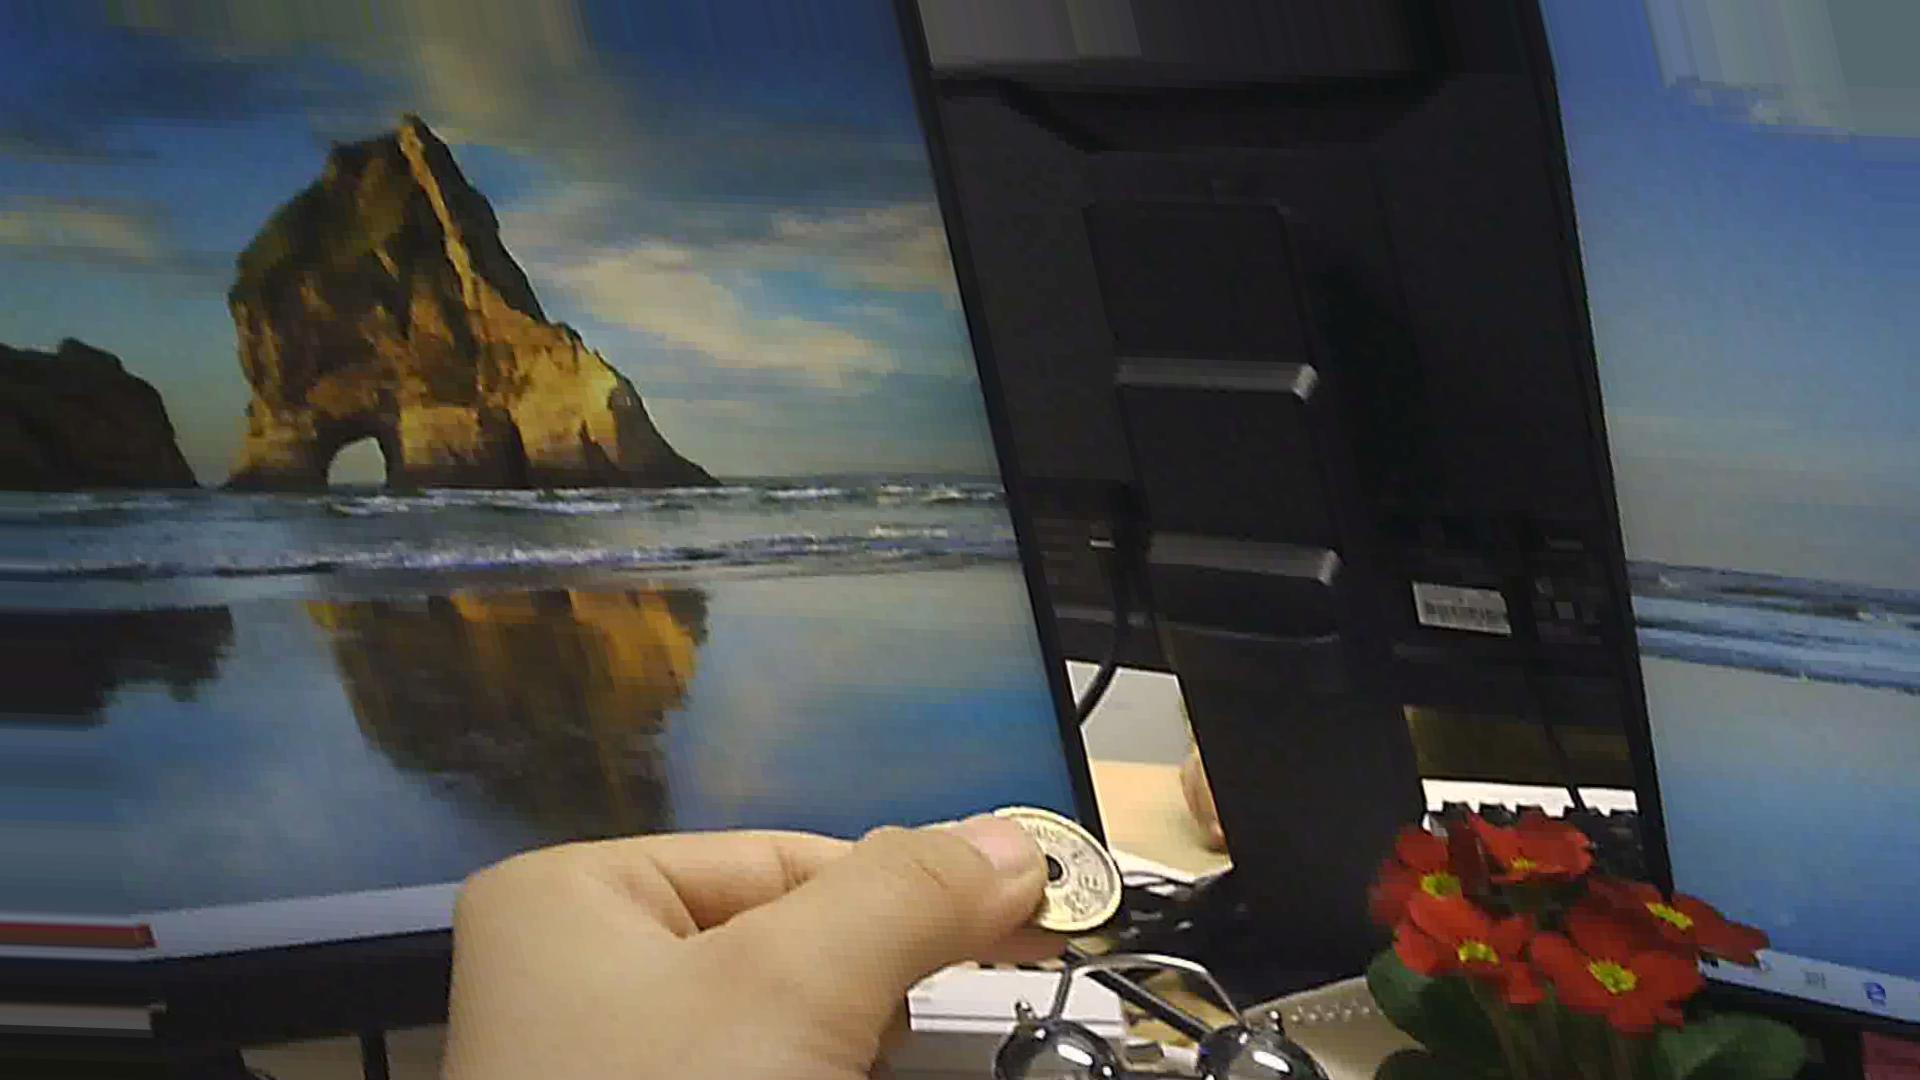5 Yen: (965, 793, 1137, 949)
